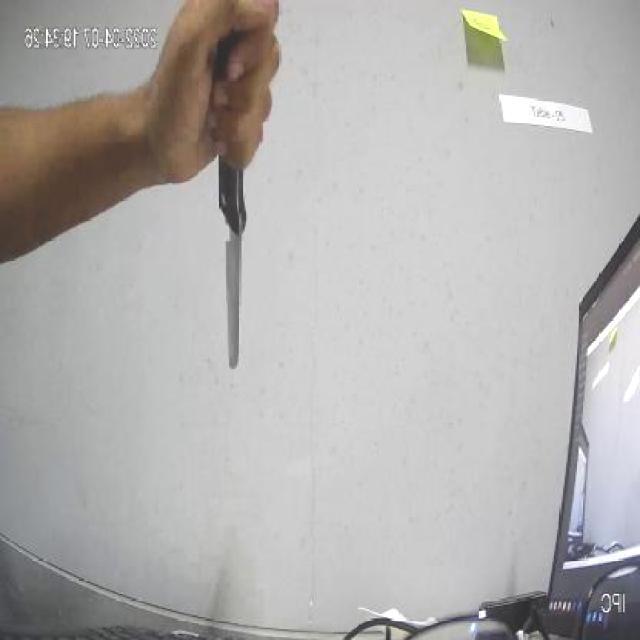knife: (199, 31, 263, 378)
